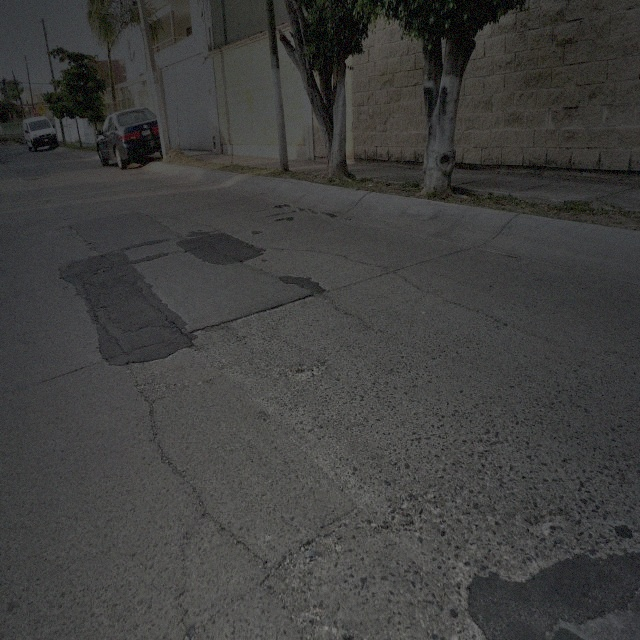pothole: (266, 531, 329, 608), (286, 363, 324, 382), (190, 326, 224, 334)
